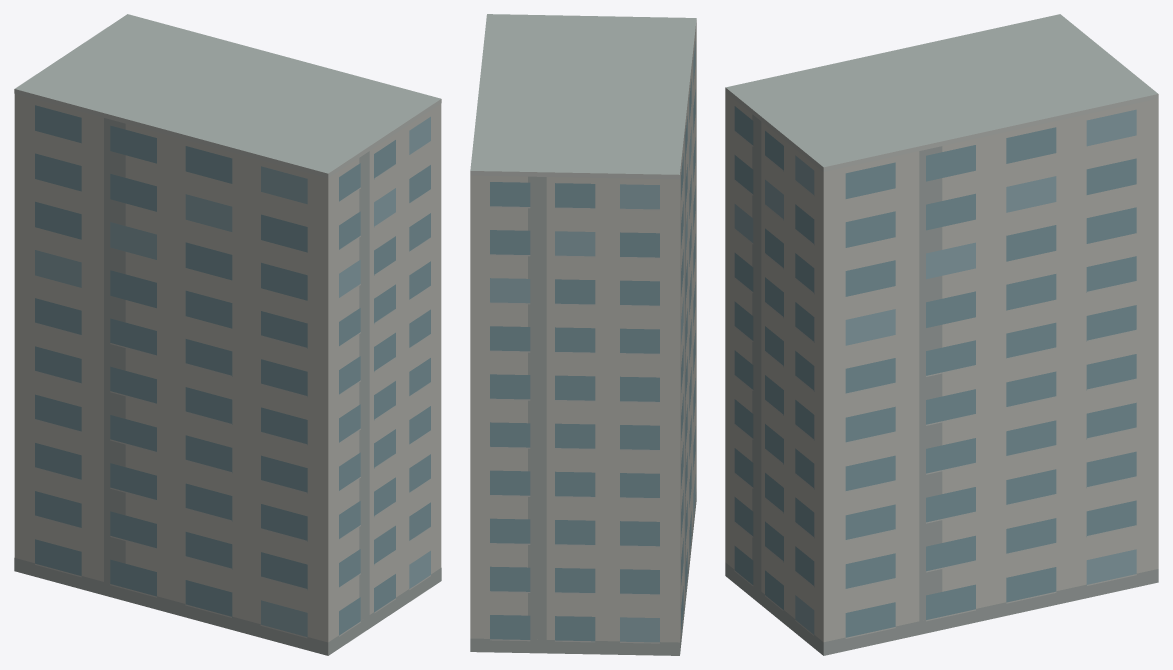
Rendered from residential-5284fac5-2f8e-4859-917c-6b661ffe9f72.glb.
3 views of the same model, side by side, from view 1: azimuth 30°, elevation 25°; view 2: azimuth 150°, elevation 25°; view 3: azimuth 270°, elevation 25° (orthographic).
Visible parts, largest first — view 1: residential-5284fac5-2f8e-4859-917c-6b661ffe9f72.tmp; view 2: residential-5284fac5-2f8e-4859-917c-6b661ffe9f72.tmp; view 3: residential-5284fac5-2f8e-4859-917c-6b661ffe9f72.tmp.
Boxes of the visible parts, x1,y1,x2,y2 form: residential-5284fac5-2f8e-4859-917c-6b661ffe9f72.tmp: [14, 14, 441, 655]; residential-5284fac5-2f8e-4859-917c-6b661ffe9f72.tmp: [470, 14, 696, 655]; residential-5284fac5-2f8e-4859-917c-6b661ffe9f72.tmp: [725, 14, 1158, 655].
Bounding box in the file's own units: 16.84 × 25 × 20.09.
